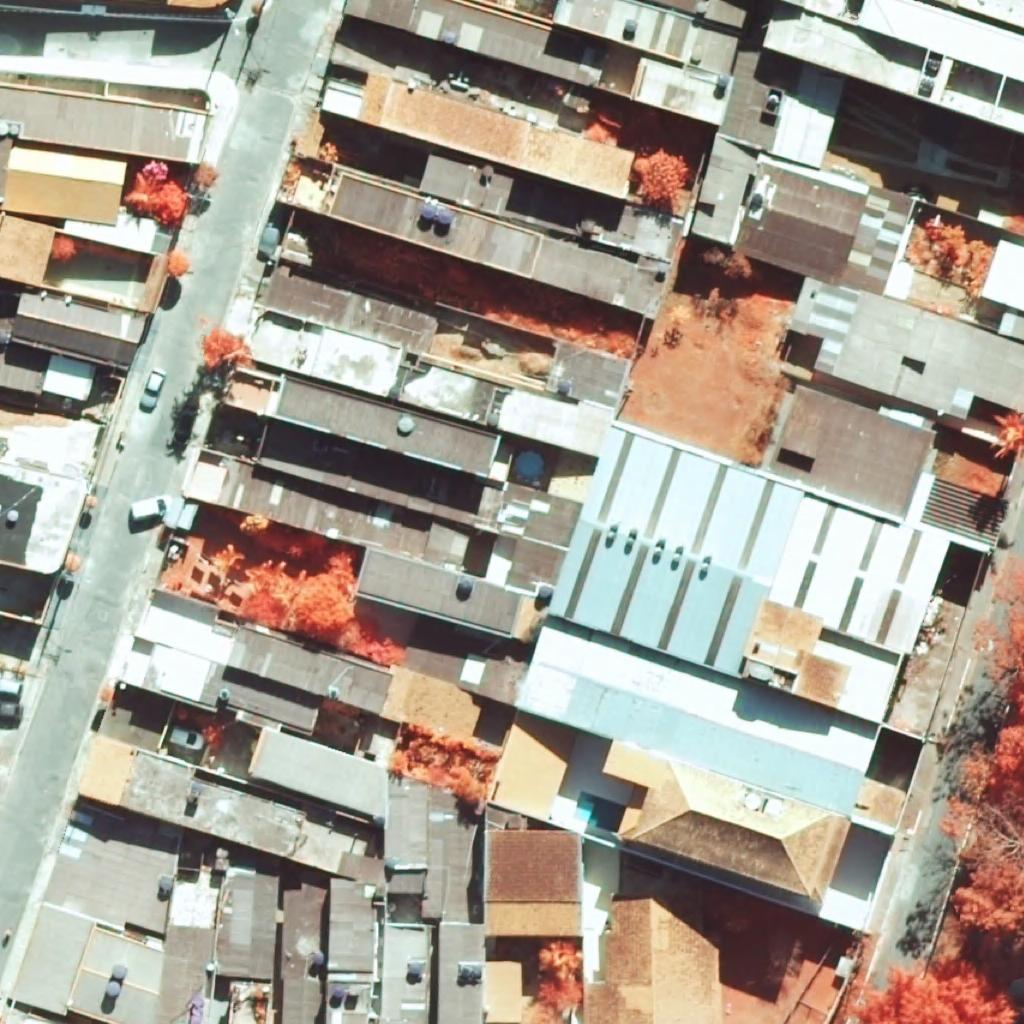pool: (573, 792, 626, 834)
